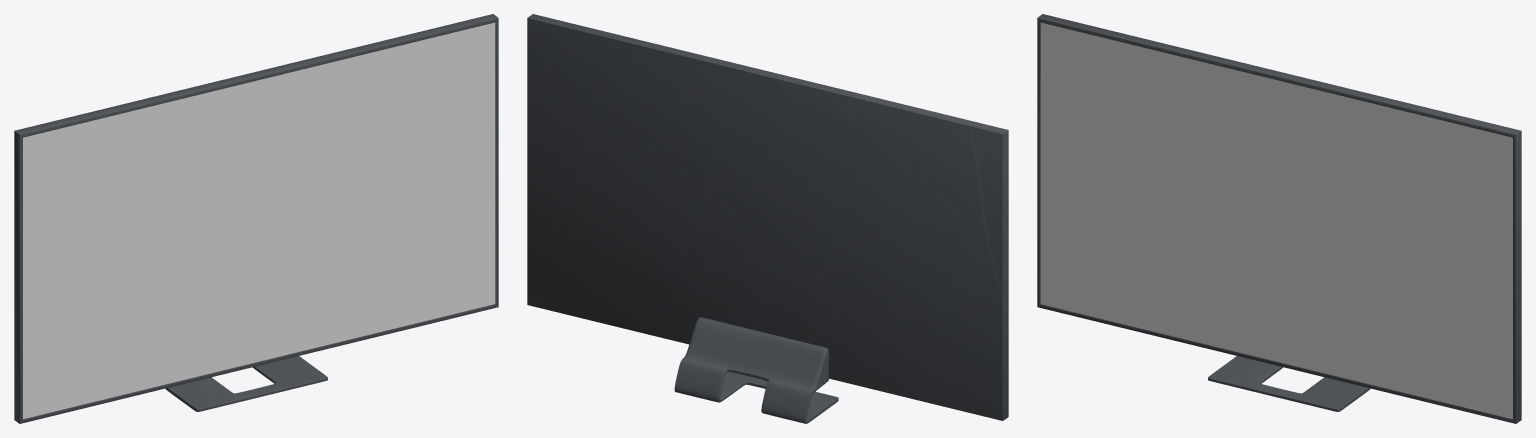
File: realistic_smart_tv_3d_model_with_stand.glb
3 views of the same model, side by side, from view 1: azimuth 30°, elevation 25°; view 2: azimuth 150°, elevation 25°; view 3: azimuth 330°, elevation 25° (orthographic).
Visible parts, largest first — view 1: Screen, Cube, Cube.003; view 2: Cube, Cube.003; view 3: Screen, Cube, Cube.003.
Boxes of the visible parts, <box> form: Screen: <box>23,22,495,418</box>; Cube: <box>14,14,498,423</box>; Cube.003: <box>165,356,327,411</box>; Cube: <box>527,14,1008,420</box>; Cube.003: <box>674,317,838,423</box>; Screen: <box>1040,22,1512,418</box>; Cube: <box>1037,14,1521,423</box>; Cube.003: <box>1208,356,1370,411</box>.
Bounding box in the file's own units: 3.3 × 2.09 × 0.4157.
2 materials, 1 textured.
